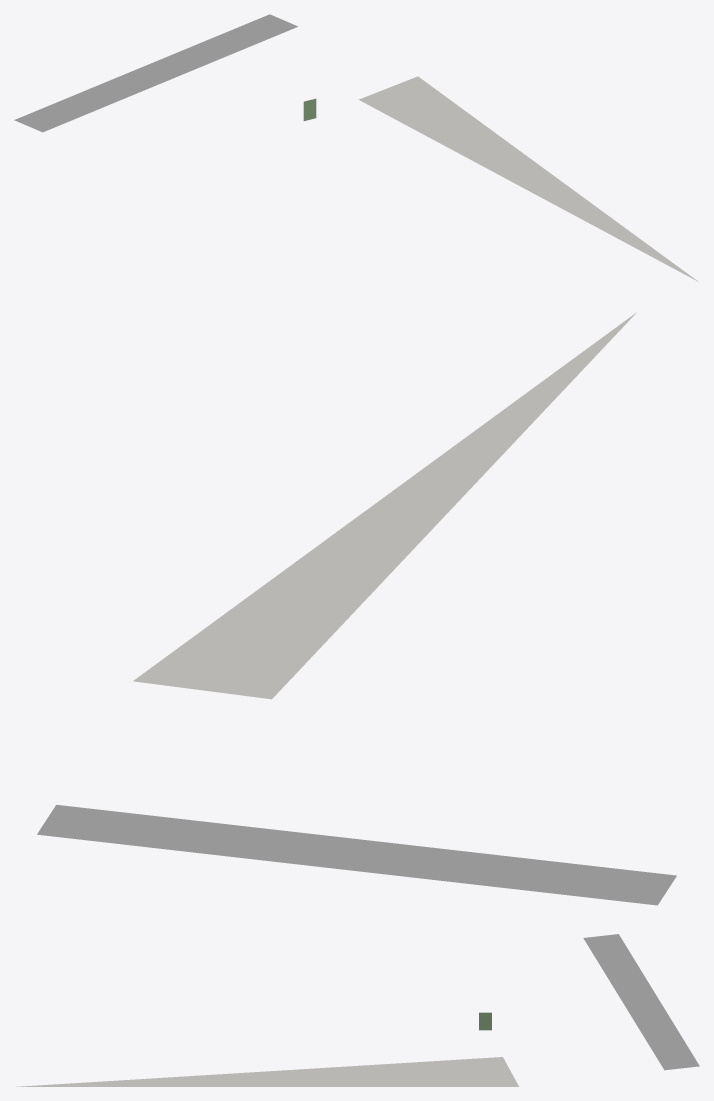
3 renders of one model, top to bottom at view 1: azimuth 30°, elevation 25°; view 2: azimuth 150°, elevation 25°; view 3: azimuth 270°, elevation 25°, orthographic. The views are drawn at different scales.
Size of the model in its own units: 68.7 by 4 by 131.
